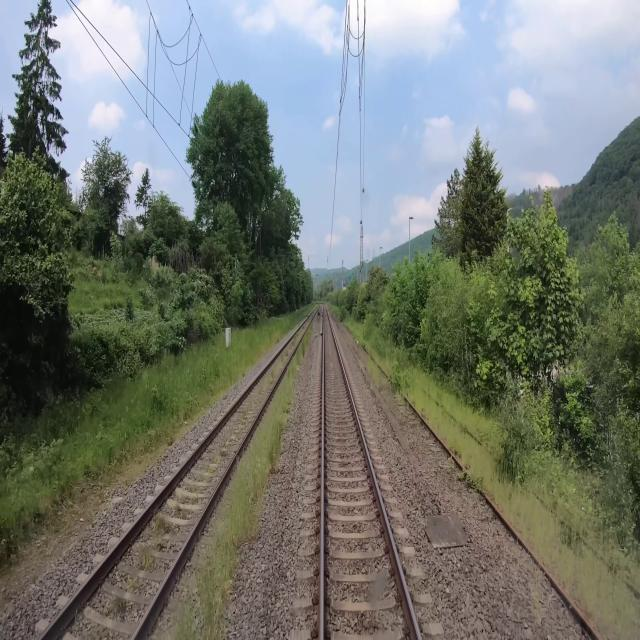Plant: (197, 389, 292, 639), (173, 591, 200, 639), (100, 594, 132, 622), (152, 513, 168, 538), (138, 547, 154, 569)
